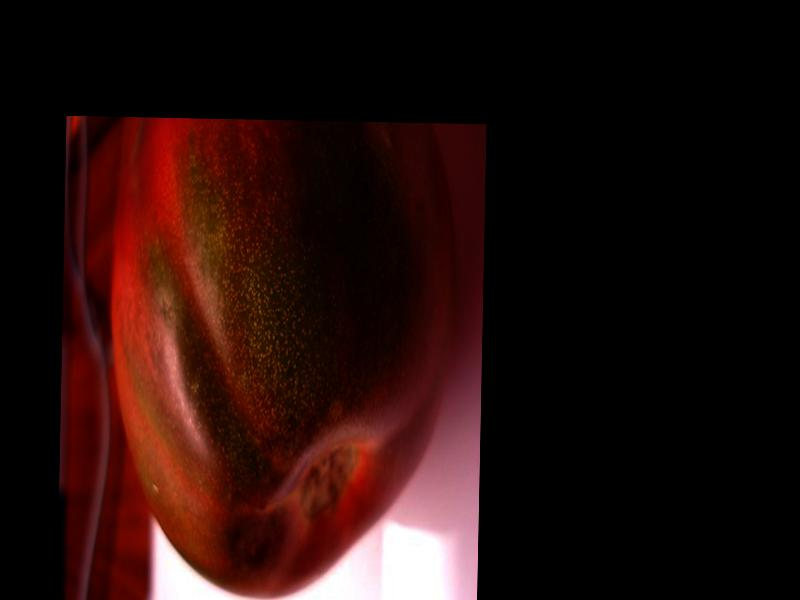Tomato: (104, 118, 457, 600)
